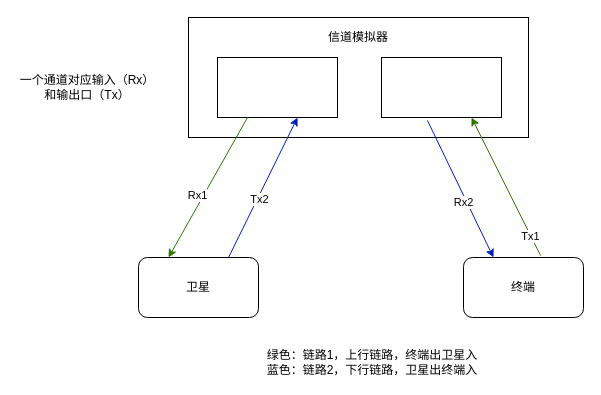
This 601x395 diagram has some shape labels left out. The box of each missing label's shape, as (x1, y1, x2, y2) in pixels:
通道1: (216, 56, 338, 118)
通道5: (380, 56, 502, 118)
